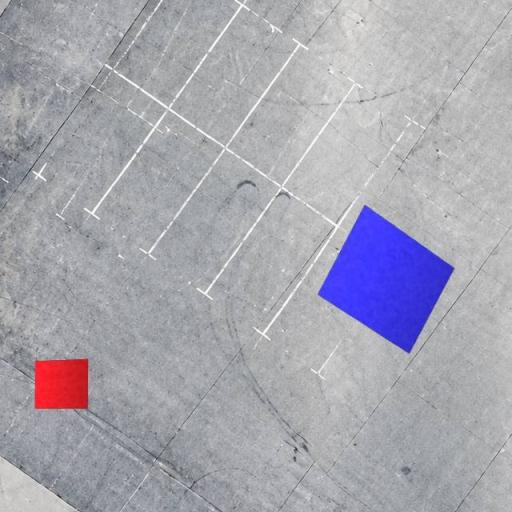BLUE_SQUARE: (317, 204, 455, 354)
RED_SQUARE: (34, 358, 89, 409)
